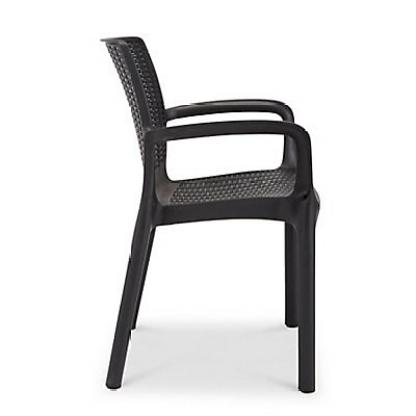chair: (96, 25, 326, 403)
